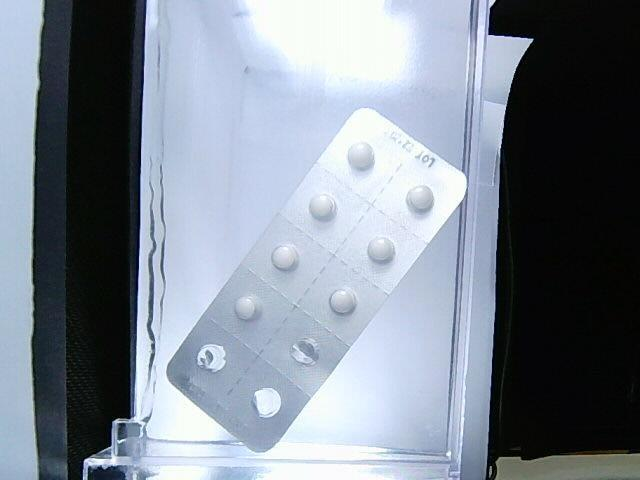Light Front: (162, 106, 468, 456)
No Pill Front: (196, 344, 226, 372), (253, 388, 281, 418), (290, 339, 318, 364)
Pill Front: (406, 185, 433, 212), (309, 194, 336, 221), (368, 236, 395, 262), (271, 245, 298, 271), (348, 143, 374, 169), (330, 288, 356, 314), (235, 296, 256, 319)
